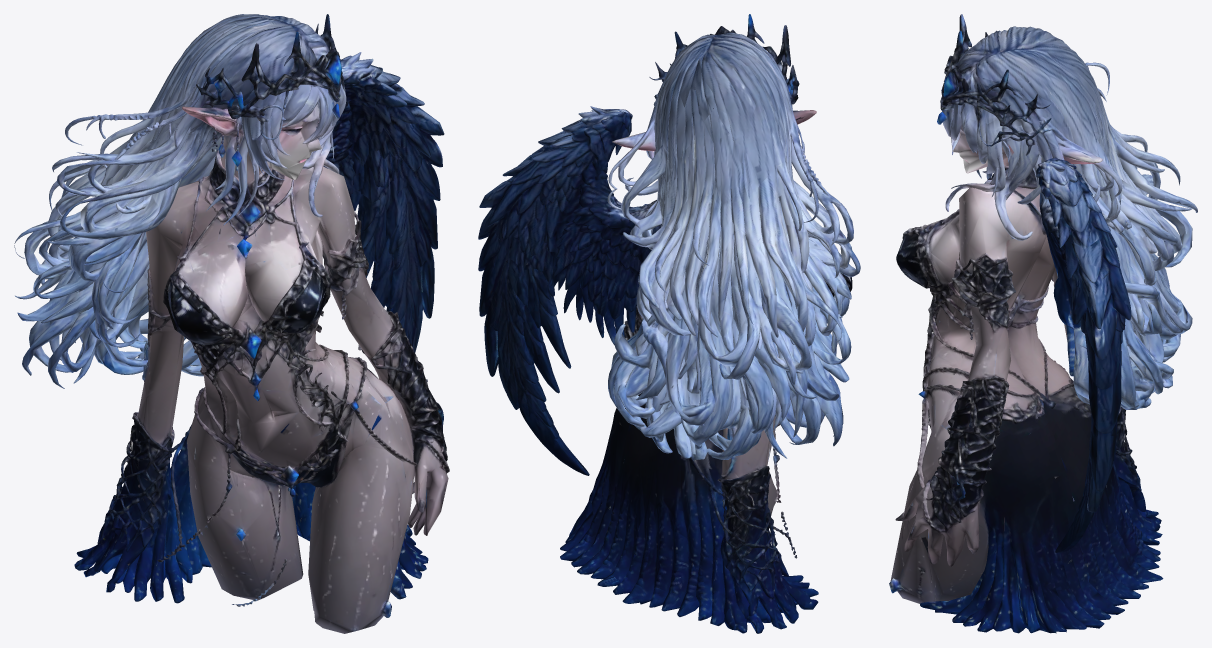
File: 01a19d9d-b4cc-7adf-bb92-e02af7d248cd.glb
The picture shows the model from 3 angles, left to right: view 1: azimuth 30°, elevation 25°; view 2: azimuth 150°, elevation 25°; view 3: azimuth 270°, elevation 25°; orthographic projection. The views are drawn at different scales.
Visible parts, largest first — view 1: model; view 2: model; view 3: model.
Boxes of the visible parts, x1,y1,x2,y2 form: model: [14, 14, 449, 633]; model: [478, 14, 860, 633]; model: [889, 14, 1197, 633].
Bounding box in the file's own units: 1.4 × 1.89 × 0.9703.
Materials: 1 (1 with a texture image).
